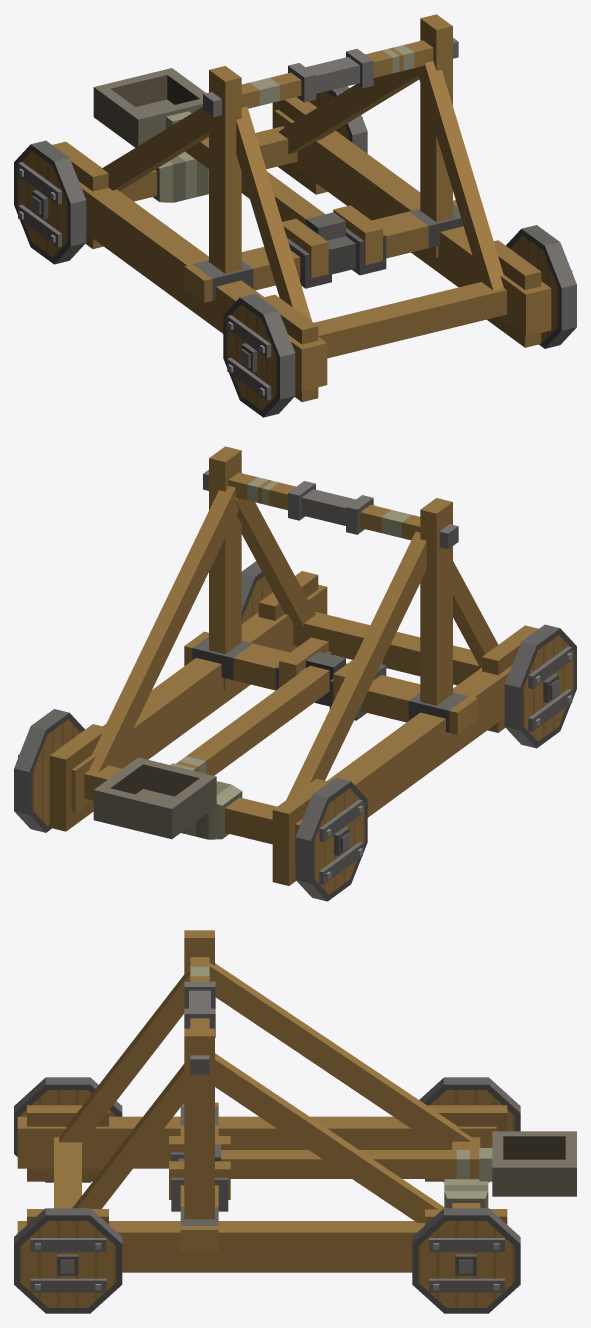
File: Mangonel.gltf
The picture shows the model from 3 angles, top to bottom: view 1: azimuth 30°, elevation 25°; view 2: azimuth 150°, elevation 25°; view 3: azimuth 270°, elevation 25°; orthographic projection. The views are drawn at different scales.
Parts seen in each view (by area): view 1: SF_Veh_Mangonel_01, SF_Veh_Mangonel_Arm, SF_Veh_Mangonel_WheelFR, SF_Veh_Mangonel_WheelBR, SF_Veh_Mangonel_WheelFL, SF_Veh_Mangonel_WheelBL; view 2: SF_Veh_Mangonel_01, SF_Veh_Mangonel_Arm, SF_Veh_Mangonel_WheelFR, SF_Veh_Mangonel_WheelBR, SF_Veh_Mangonel_WheelBL, SF_Veh_Mangonel_WheelFL; view 3: SF_Veh_Mangonel_01, SF_Veh_Mangonel_Arm, SF_Veh_Mangonel_WheelBL, SF_Veh_Mangonel_WheelFL, SF_Veh_Mangonel_WheelBR, SF_Veh_Mangonel_WheelFR.
Part boxes in pixels (x1,y1,x2,y2): SF_Veh_Mangonel_01: (52,14,551,402); SF_Veh_Mangonel_Arm: (93,68,345,240); SF_Veh_Mangonel_WheelFR: (223,293,295,417); SF_Veh_Mangonel_WheelBR: (14,140,86,264); SF_Veh_Mangonel_WheelFL: (506,225,576,348); SF_Veh_Mangonel_WheelBL: (309,86,367,153); SF_Veh_Mangonel_01: (49,446,538,885); SF_Veh_Mangonel_Arm: (93,651,345,839); SF_Veh_Mangonel_WheelFR: (504,624,576,748); SF_Veh_Mangonel_WheelBR: (295,777,367,901); SF_Veh_Mangonel_WheelBL: (14,709,84,832); SF_Veh_Mangonel_WheelFL: (241,561,272,623); SF_Veh_Mangonel_01: (17,930,507,1272); SF_Veh_Mangonel_Arm: (215,1131,576,1196); SF_Veh_Mangonel_WheelBL: (412,1208,520,1313); SF_Veh_Mangonel_WheelFL: (14,1208,122,1313); SF_Veh_Mangonel_WheelBR: (419,1077,520,1182); SF_Veh_Mangonel_WheelFR: (14,1077,122,1182).
Bounding box in the file's own units: 0.0617 × 0.0519 × 0.1014.
1 material, 1 textured.
